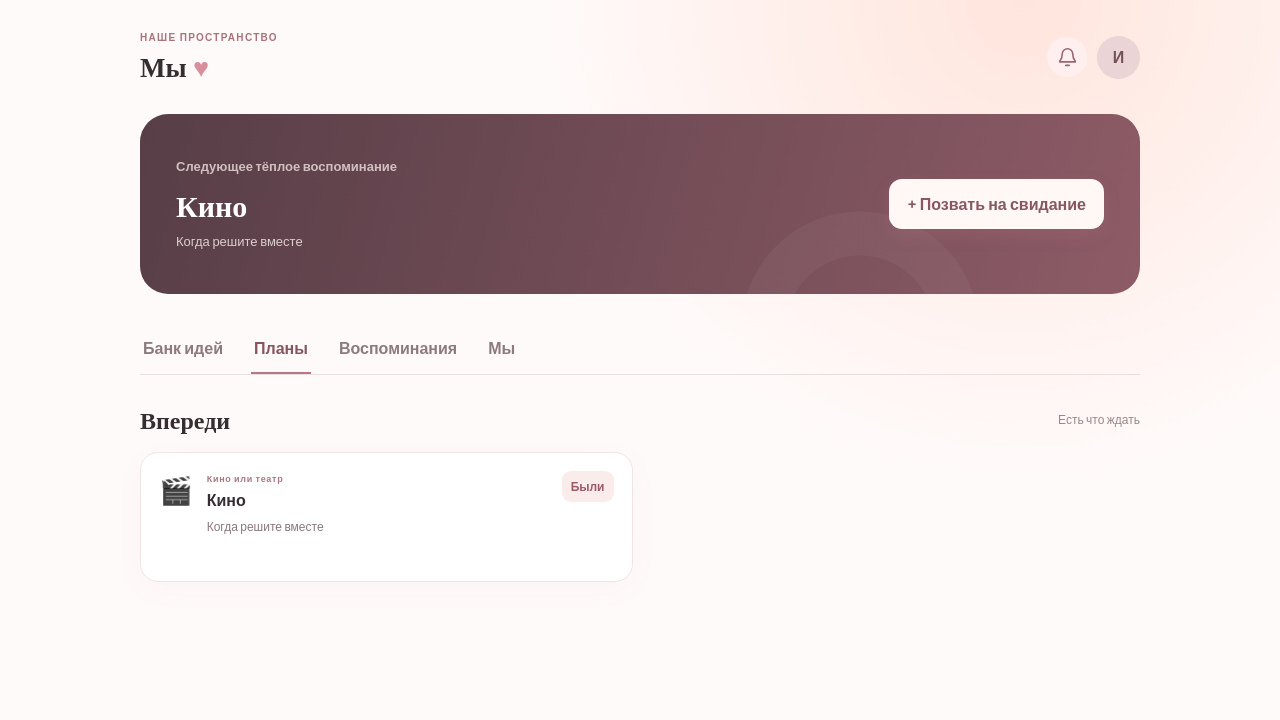
Scenario: date details › opens the appointment form for the partner who will organise the date
This screenshot has width=1280, height=720.
What coordinates should you click on to do the following:
click the button with aria-label "Открыть детали: Кино"
I would click on:
 (245, 478)
Its box is [207,471,548,542].
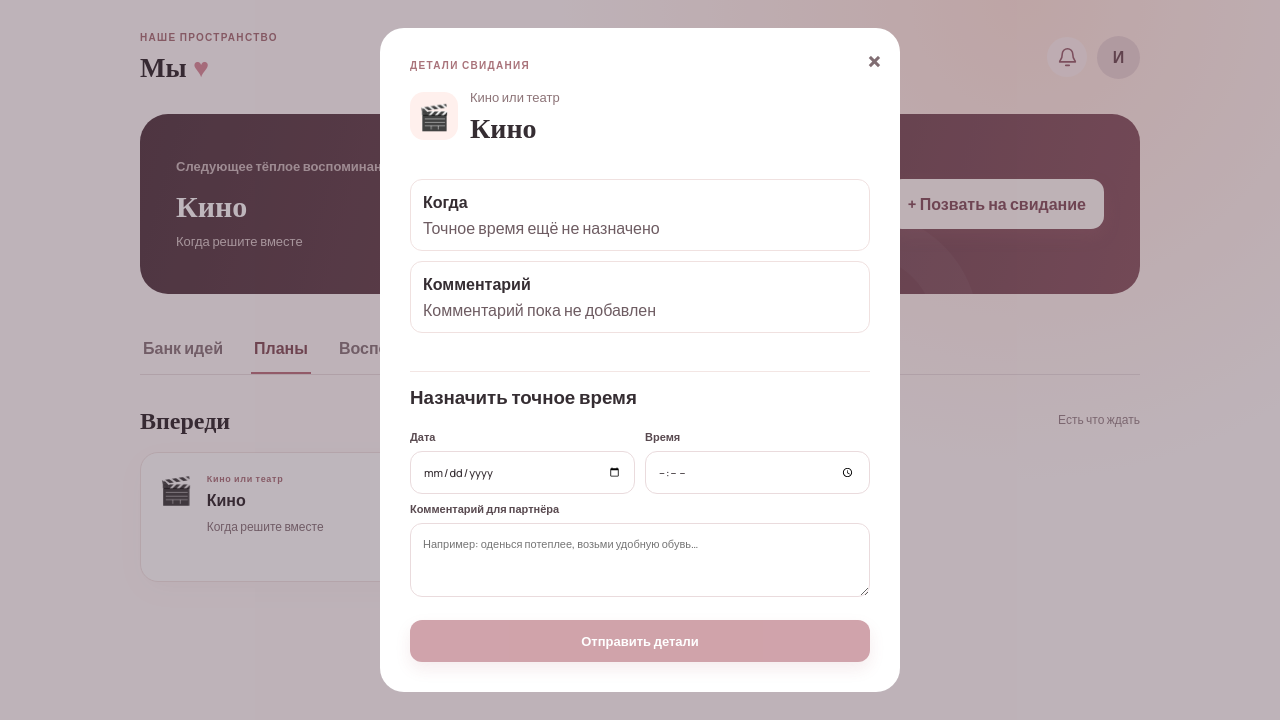
expect the dialog "ДЕТАЛИ СВИДАНИЯ" is shown: met, box [380,28,900,692]
expect the heading "Назначить точное время" is shown: met, box [410,384,637,410]
